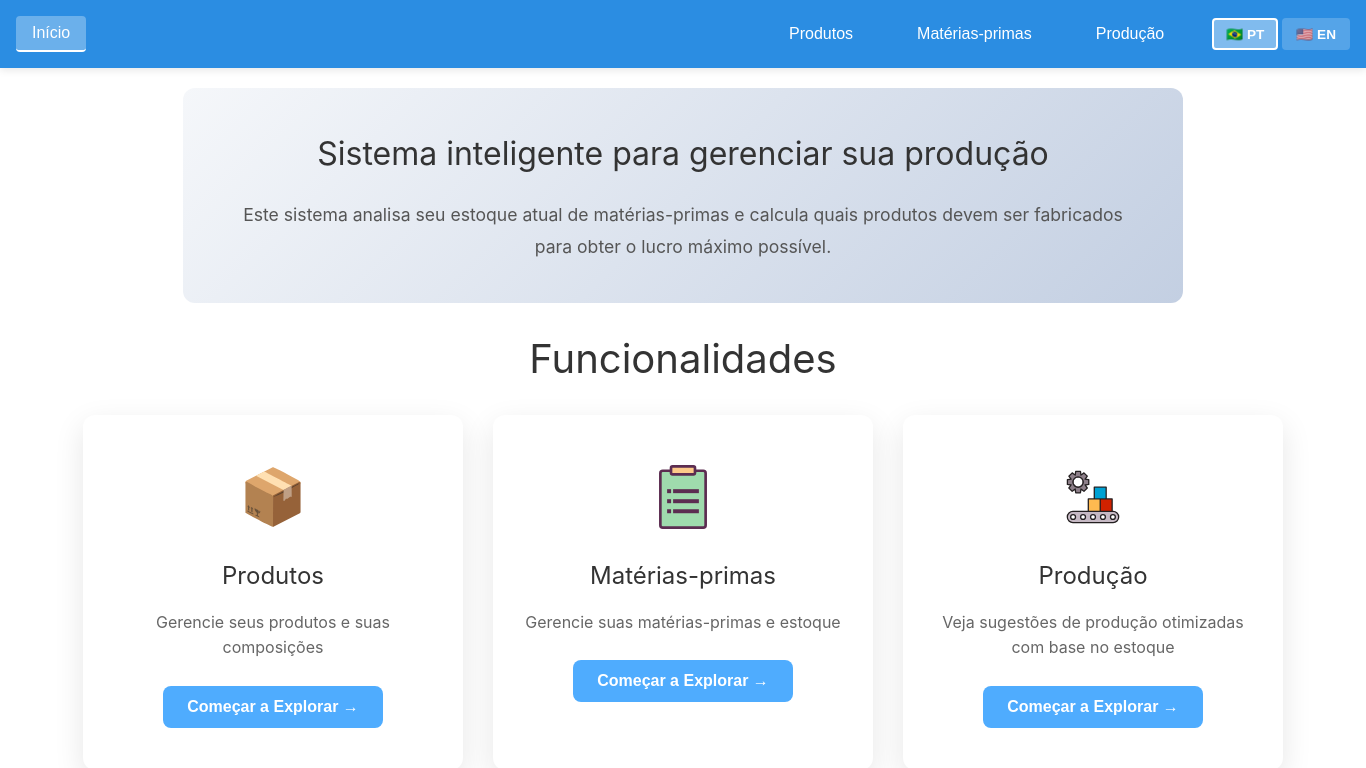
Test: Application flows › language switching › changes the UI language and persists setting
The image size is (1366, 768).
Expected: the button "🇧🇷 PT" is shown, left=1212, top=18, right=1278, bottom=50
Click the button "🇺🇸 EN".
click(1316, 35)  # box left=1282, top=18, right=1350, bottom=51
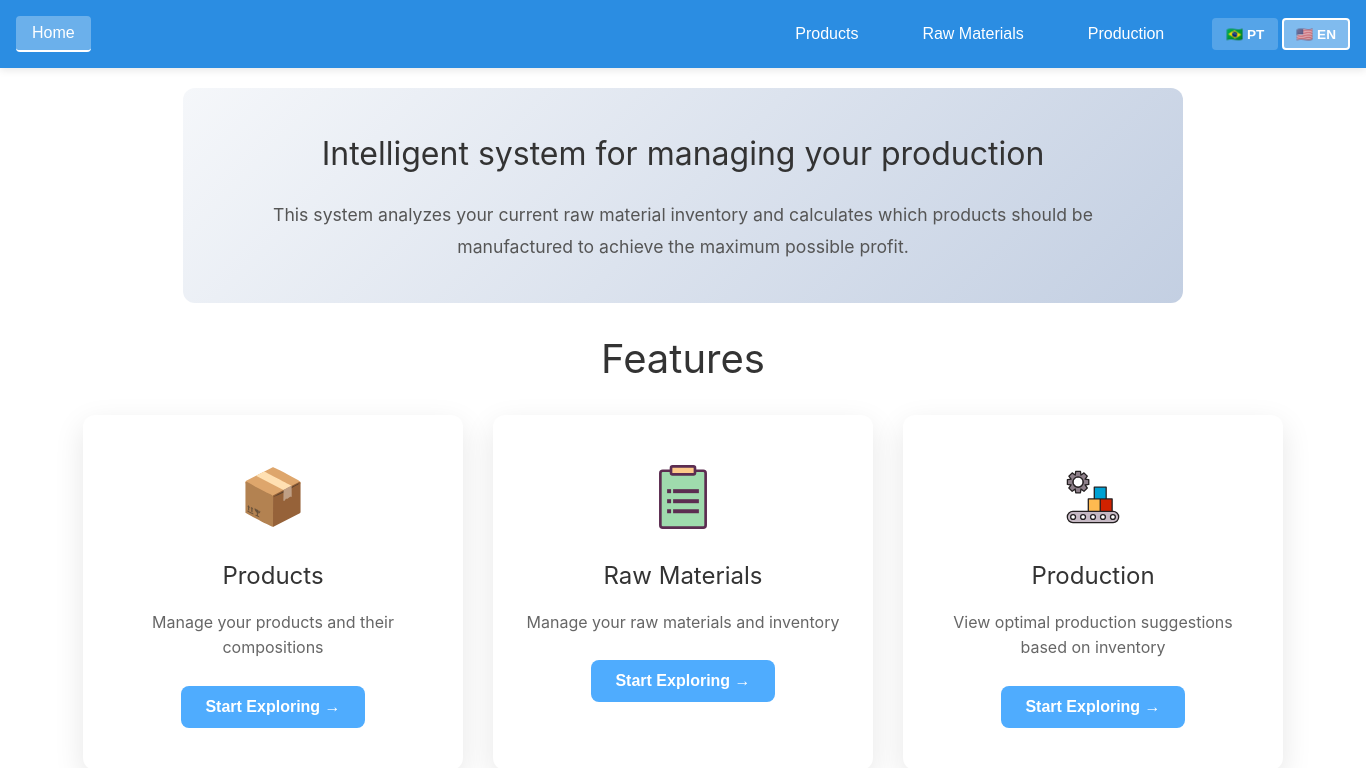
Now the button "Home" is shown, box left=16, top=16, right=91, bottom=52
Reload the page
Now the button "Home" is shown, box left=16, top=16, right=91, bottom=52
Click the button "🇧🇷 PT".
click(1245, 35)  # box left=1212, top=18, right=1278, bottom=51
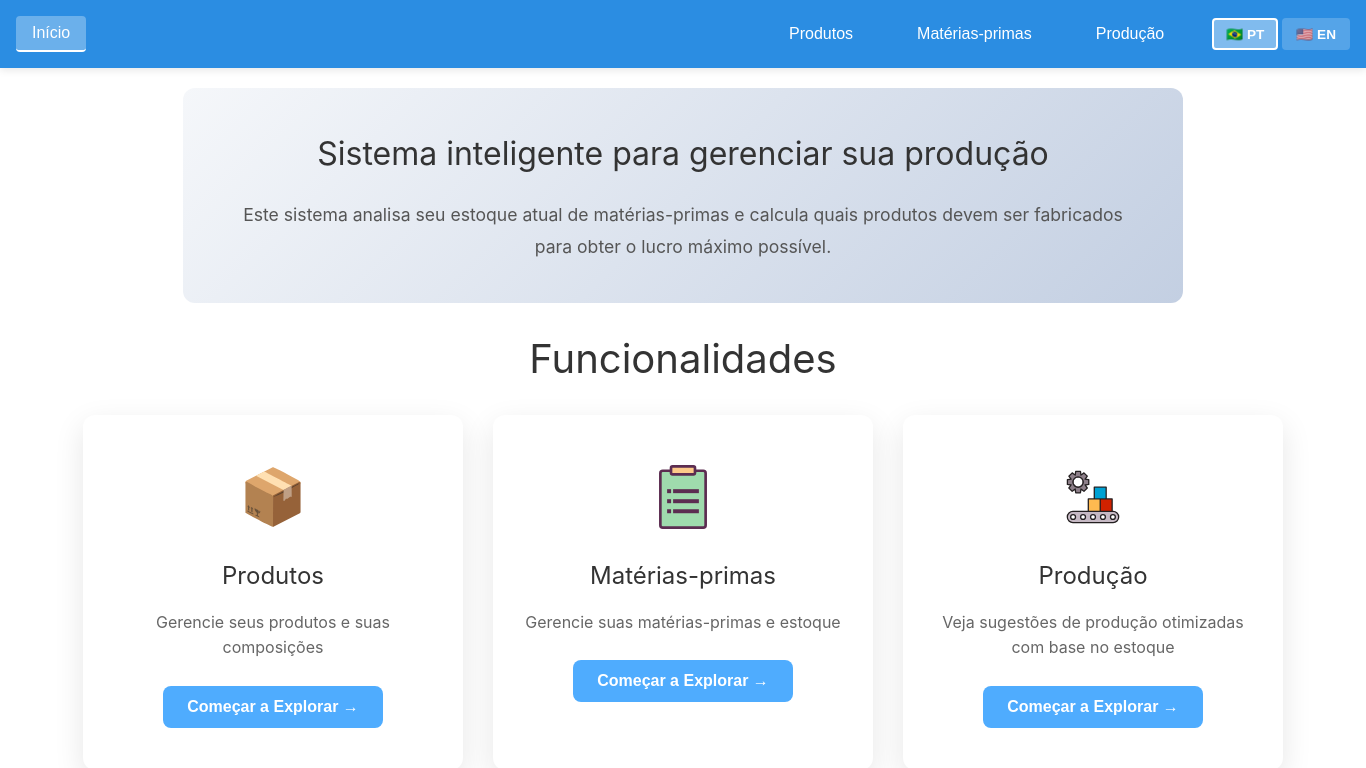
Now the button "Início" is shown, box left=16, top=16, right=86, bottom=52
